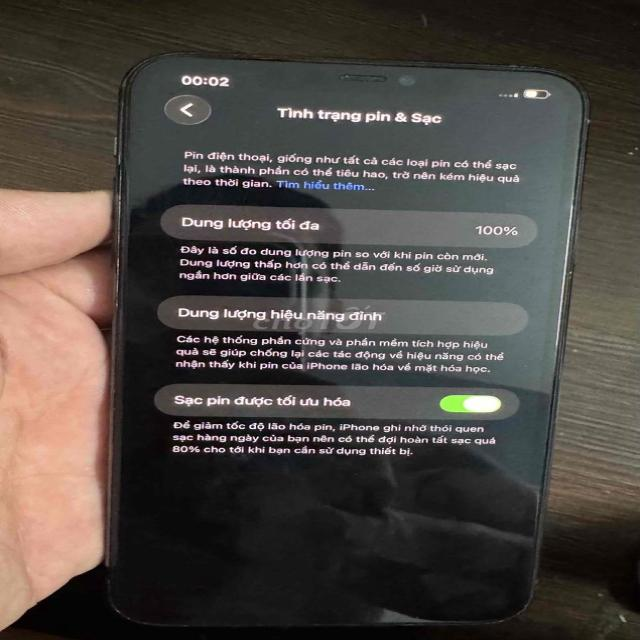gen_11: (89, 48, 604, 634)
scratch: (100, 133, 132, 309), (480, 604, 540, 626), (502, 60, 562, 76)
